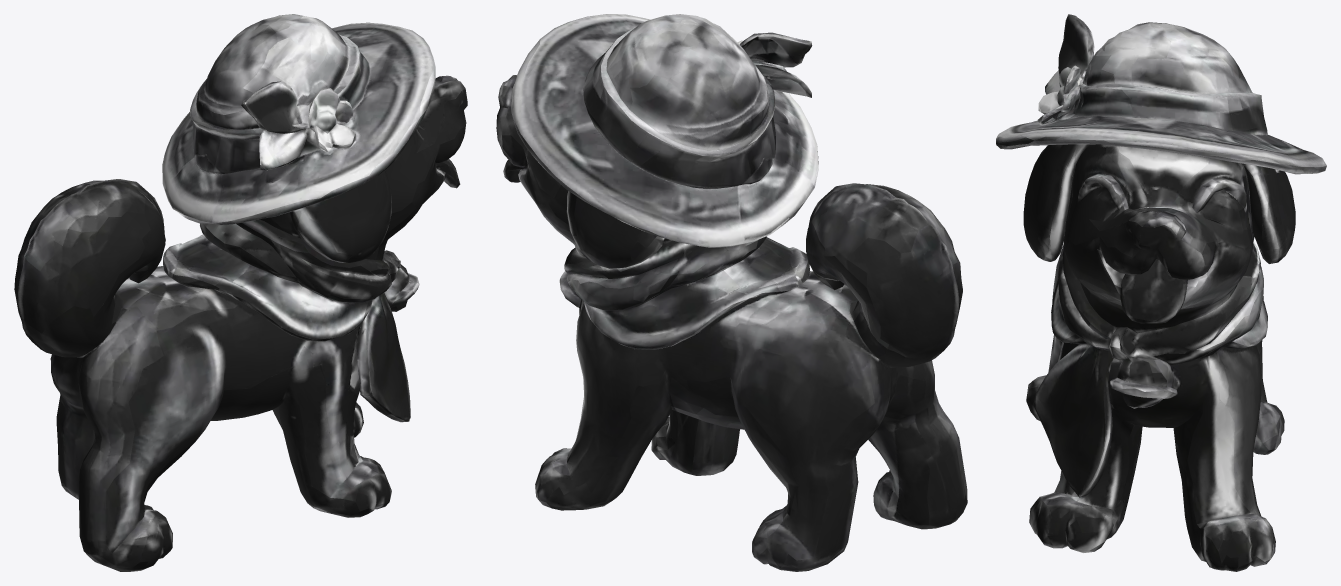
The model's file is dog-hat-silver.glb.
3 views of the same model, side by side, from view 1: azimuth 30°, elevation 25°; view 2: azimuth 150°, elevation 25°; view 3: azimuth 270°, elevation 25° (orthographic). The views are drawn at different scales.
Parts seen in each view (by area): view 1: geometry_0; view 2: geometry_0; view 3: geometry_0.
Part boxes in pixels (x1,y1,x2,y2): geometry_0: (14,14,467,571); geometry_0: (496,14,967,571); geometry_0: (996,14,1326,571).
Size of the model in its own units: 0.12 by 0.1199 by 0.0719.
1 material, 1 textured.
